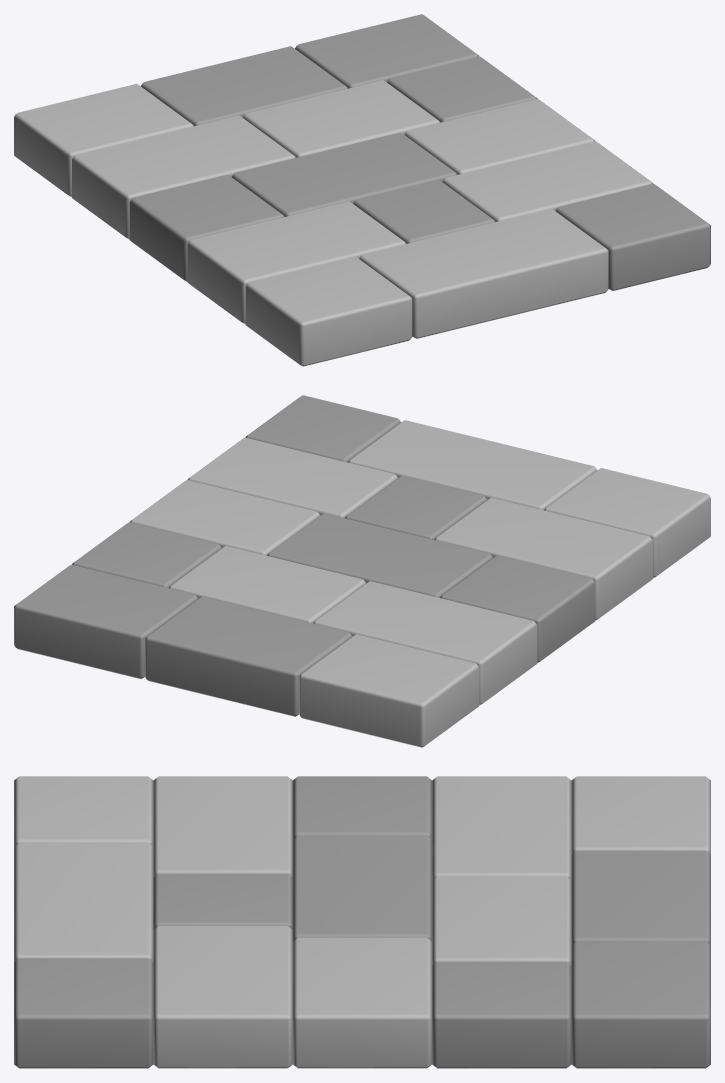
Rendered from City_18_Base_1.glb.
The picture shows the model from 3 angles, top to bottom: view 1: azimuth 30°, elevation 25°; view 2: azimuth 150°, elevation 25°; view 3: azimuth 270°, elevation 25°; orthographic projection. The views are drawn at different scales.
Visible parts, largest first — view 1: City_18_Base_1; view 2: City_18_Base_1; view 3: City_18_Base_1.
Part boxes in pixels (bbox=[...]): City_18_Base_1: bbox=[14, 14, 710, 366]; City_18_Base_1: bbox=[14, 395, 710, 747]; City_18_Base_1: bbox=[14, 776, 710, 1068].
Bounding box in the file's own units: 5.98 × 0.6294 × 7.28.
1 material, 1 textured.
